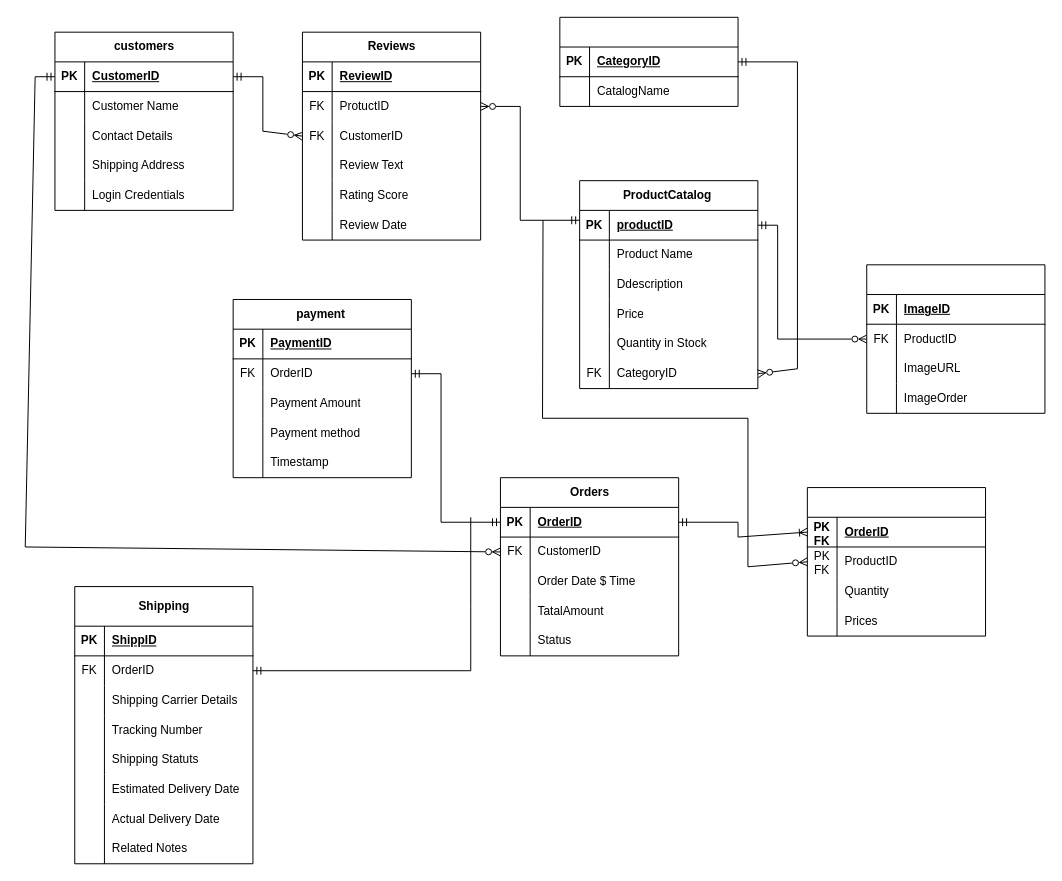
The diagram is 1062 pixels wide and 881 high, and some of its shapes have lost their labels. Here are the shapes that lost their labels. From the top down, the box of each, then its label:
(559, 16, 738, 106): ProductCategory
(866, 264, 1045, 413): ProductImags
(806, 487, 986, 636): OrderItem
